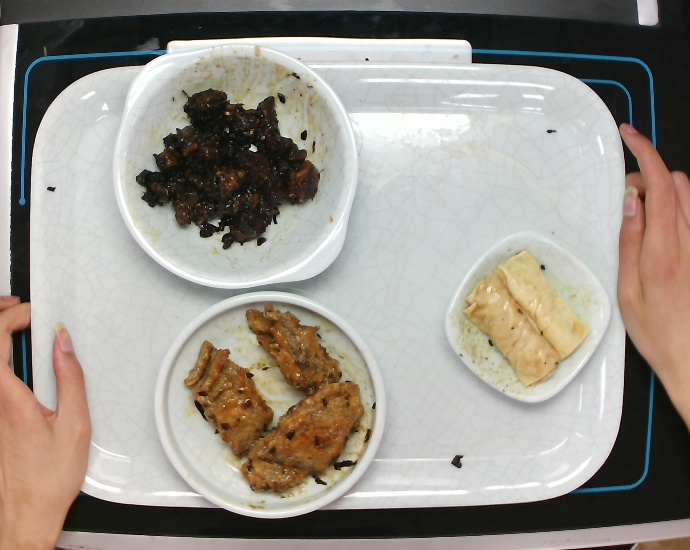JYsf-Shuang_Er_Wan: (111, 43, 363, 297)
JYsf-Si_Fang_Die: (437, 221, 615, 415)
JYsf-Xiao_Yuan_Pan: (152, 284, 392, 527)
